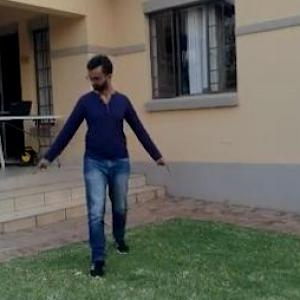land: (34, 47, 172, 272)
